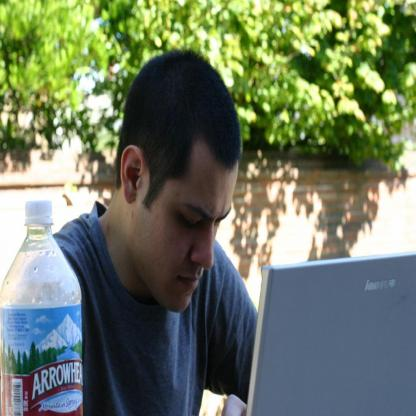board: (277, 223, 409, 408), (0, 197, 83, 415)
